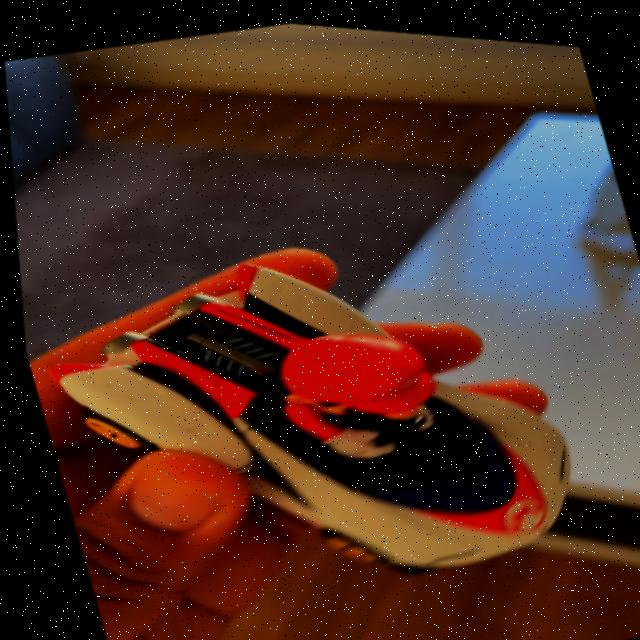mario: (16, 181, 625, 640)
